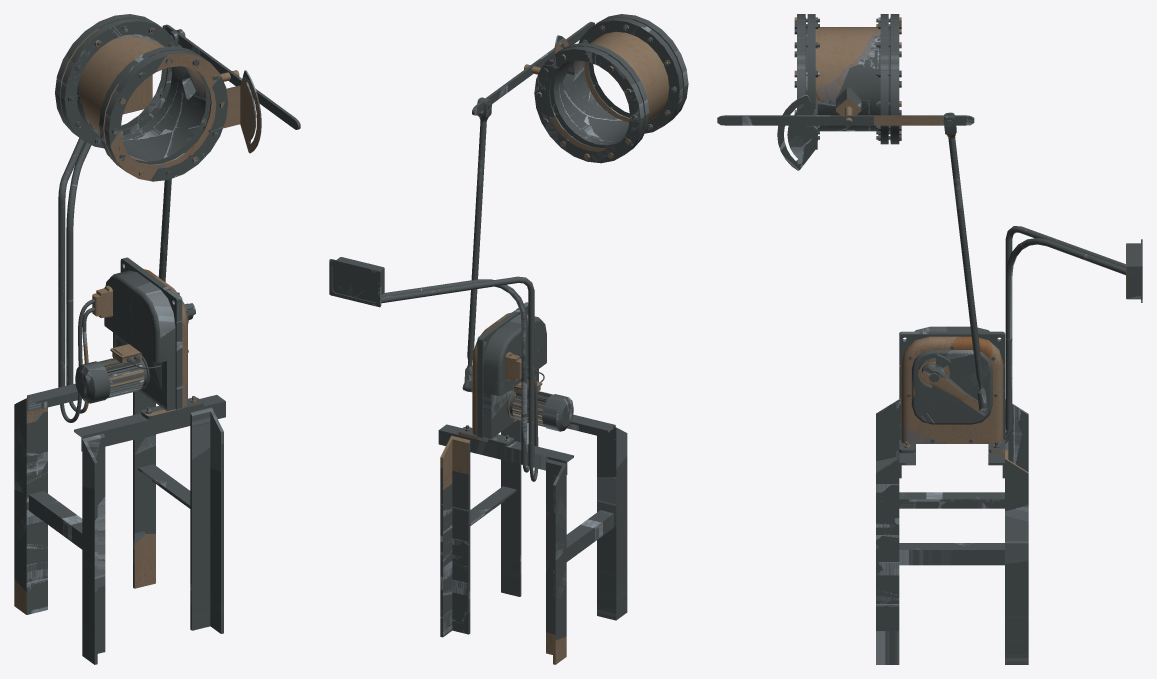
File: Flap_2.fbx
3 views of the same model, side by side, from view 1: azimuth 30°, elevation 25°; view 2: azimuth 150°, elevation 25°; view 3: azimuth 270°, elevation 25° (orthographic). The views are drawn at different scales.
Parts seen in each view (by area): view 1: Cube.009, Cylinder.048, Cylinder.047, Cylinder.046; view 2: Cube.009, Cylinder.048, Cylinder.046, Cylinder.047; view 3: Cube.009, Cylinder.048, Cylinder.047, Cylinder.046, Cylinder.045.
Boxes of the visible parts, x1=… form: Cube.009: x1=14, y1=75, x2=225, y2=664; Cylinder.048: x1=55, y1=14, x2=261, y2=181; Cylinder.047: x1=162, y1=24, x2=300, y2=129; Cylinder.046: x1=158, y1=29, x2=185, y2=281; Cube.009: x1=329, y1=257, x2=627, y2=664; Cylinder.048: x1=534, y1=14, x2=688, y2=163; Cylinder.046: x1=462, y1=97, x2=491, y2=392; Cylinder.047: x1=472, y1=22, x2=594, y2=115; Cube.009: x1=876, y1=226, x2=1142, y2=664; Cylinder.048: x1=777, y1=14, x2=901, y2=170; Cylinder.047: x1=717, y1=106, x2=974, y2=126; Cylinder.046: x1=943, y1=112, x2=987, y2=415; Cylinder.045: x1=918, y1=358, x2=979, y2=413.
Size of the model in its own units: 105 by 287 by 184.
